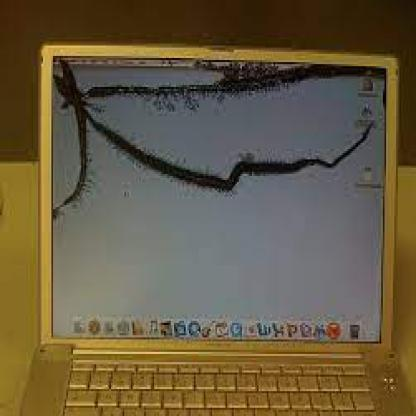crack: (50, 52, 394, 236)
